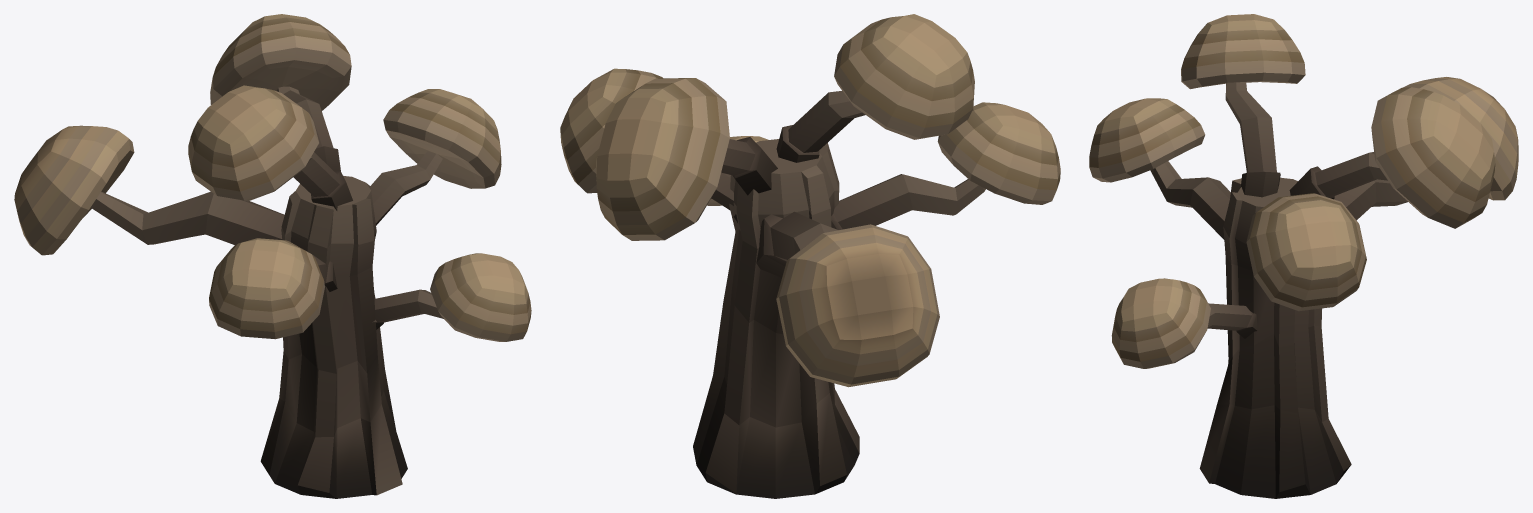
Rendered from Tree_Small_F.fbx.
The picture shows the model from 3 angles, left to right: view 1: azimuth 30°, elevation 25°; view 2: azimuth 150°, elevation 25°; view 3: azimuth 270°, elevation 25°; orthographic projection. The views are drawn at different scales.
Visible parts, largest first — view 1: Tree_Small_F; view 2: Tree_Small_F; view 3: Tree_Small_F.
Part boxes in pixels (box(x1,y1,x2,y2)): Tree_Small_F: box(14, 14, 531, 498); Tree_Small_F: box(560, 14, 1060, 498); Tree_Small_F: box(1089, 14, 1518, 498).
Bounding box in the file's own units: 168 × 166 × 160.
